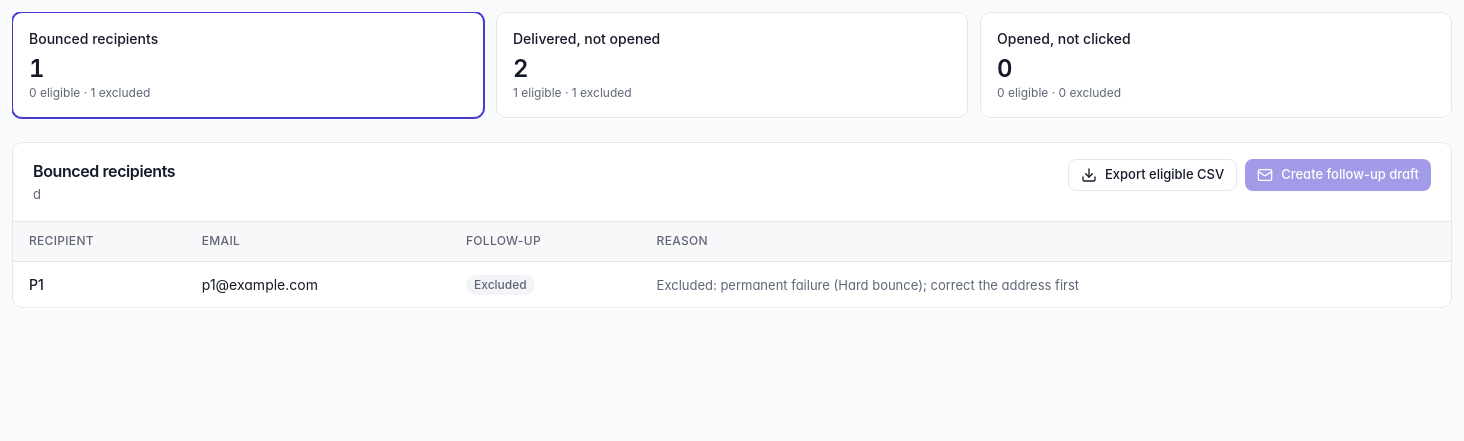
it: Followups › shows inclusion/exclusion reasons, exports eligible only, and never sends
Expected: the text "permanent failure" is shown, x1=657 y1=276 x2=1079 y2=292
Click the button with test id "segment-unopened" at (587, 38), box x1=496 y1=12 x2=968 y2=118
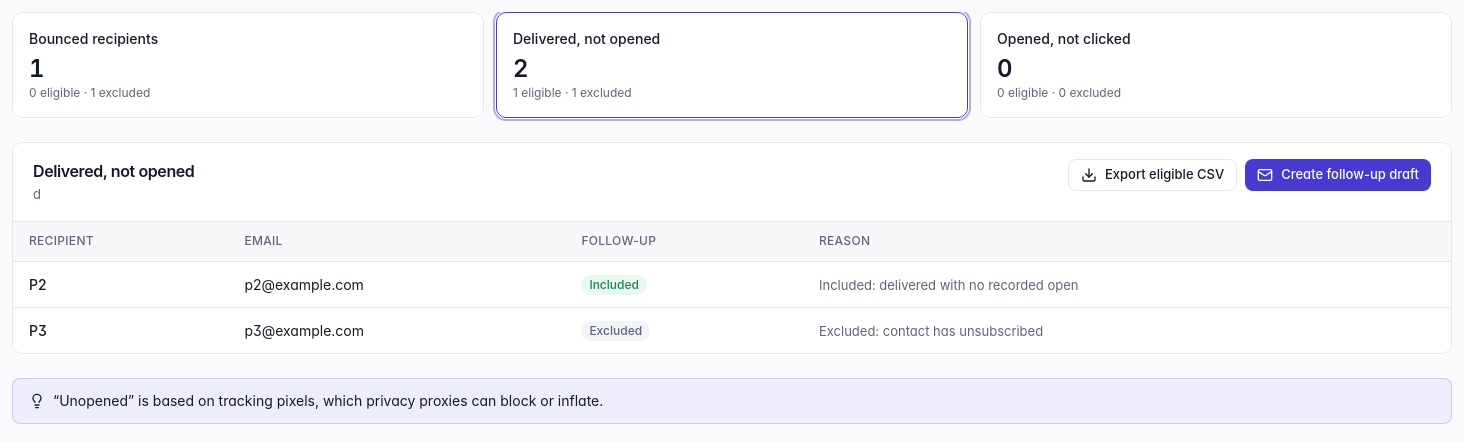
Expected: the text "Included: delivered with no recorded open" is shown, x1=803 y1=262 x2=1451 y2=308
Expected: the text "Excluded: contact has unsubscribed" is shown, x1=803 y1=308 x2=1451 y2=353
